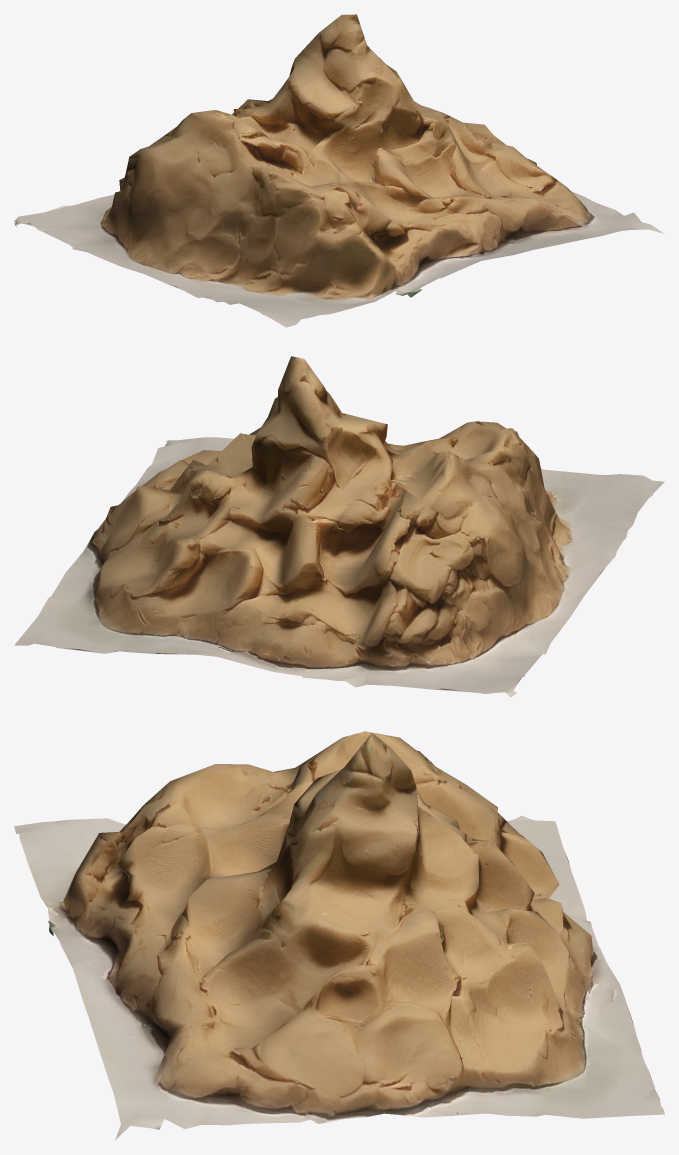
File: GPGre_MamanLOD110.fbx
The picture shows the model from 3 angles, top to bottom: view 1: azimuth 30°, elevation 25°; view 2: azimuth 150°, elevation 25°; view 3: azimuth 270°, elevation 25°; orthographic projection. The views are drawn at different scales.
Visible parts, largest first — view 1: Model; view 2: Model; view 3: Model.
Boxes of the visible parts, bbox=[...] form: Model: bbox=[14, 14, 664, 327]; Model: bbox=[14, 356, 664, 697]; Model: bbox=[14, 731, 664, 1140].
Bounding box in the file's own units: 2.4 × 1.03 × 2.14.
